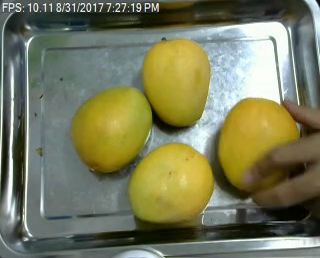Mango: (218, 98, 302, 193), (69, 86, 153, 172), (129, 143, 214, 221), (142, 39, 213, 124)
